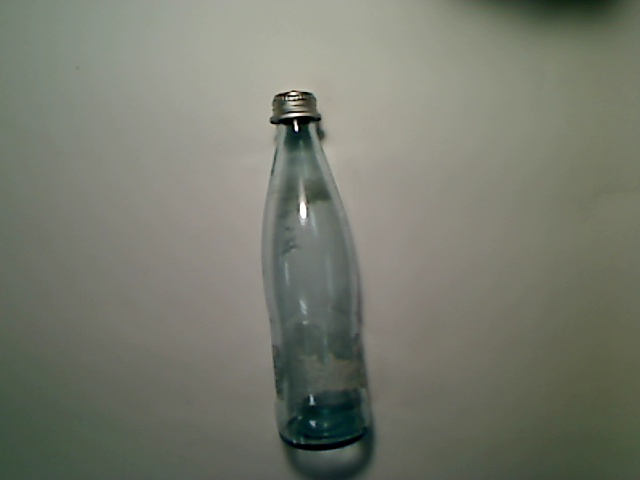bottle: (261, 91, 371, 451)
